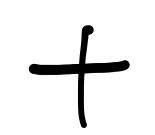plus: (28, 20, 131, 128)
